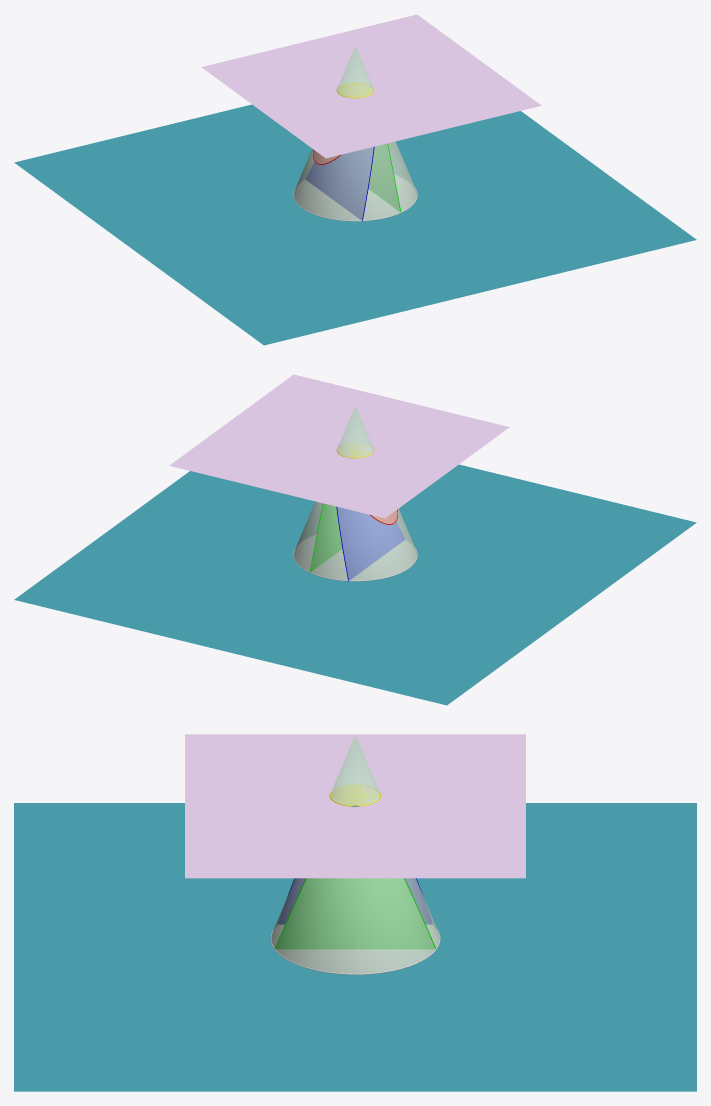
3 views of the same model, one above another, from view 1: azimuth 30°, elevation 25°; view 2: azimuth 150°, elevation 25°; view 3: azimuth 270°, elevation 25° (orthographic). The views are drawn at different scales.
Visible parts, largest first — view 1: xOyPlane, Piano, b, k_3, c_3, b_2, t_3; view 2: xOyPlane, Piano, b, k_3, c_3, b_2, t_3; view 3: xOyPlane, Piano, b, t_3, c_3, b_2, k_3, d_2.
Part boxes in pixels (x1,y1,x2,y2): xOyPlane: [14, 104, 696, 345]; Piano: [201, 14, 541, 158]; b: [294, 46, 416, 220]; k_3: [307, 147, 373, 219]; c_3: [294, 175, 416, 220]; b_2: [297, 46, 413, 185]; t_3: [369, 144, 399, 210]; xOyPlane: [14, 464, 696, 705]; Piano: [169, 374, 509, 518]; b: [294, 406, 416, 580]; k_3: [337, 507, 403, 579]; c_3: [294, 535, 416, 580]; b_2: [297, 406, 413, 545]; t_3: [311, 504, 341, 570]; xOyPlane: [14, 803, 696, 1091]; Piano: [185, 734, 525, 878]; b: [271, 735, 439, 973]; t_3: [276, 878, 434, 948]; c_3: [272, 925, 438, 973]; b_2: [275, 735, 435, 926]; k_3: [279, 878, 431, 923]; d_2: [331, 785, 379, 805].
Size of the model in its own units: 20.04 by 6.88 by 20.04.
